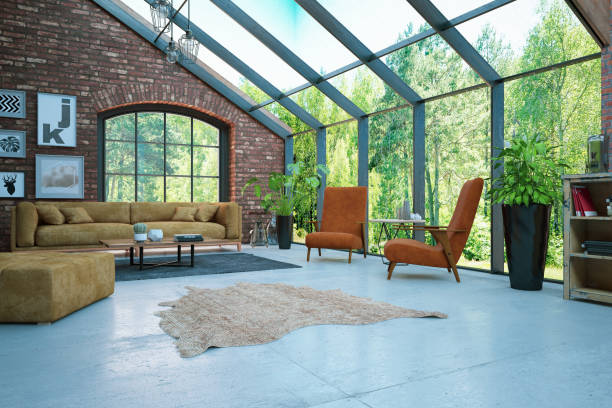chair: (383, 175, 485, 285), (303, 186, 370, 265)
large plant: (491, 133, 562, 292), (249, 169, 307, 250)
sofa: (7, 198, 245, 253)
table: (97, 234, 240, 272)
wall art: (35, 90, 79, 148), (33, 152, 86, 200), (0, 84, 30, 121), (0, 127, 30, 160), (0, 169, 26, 198)
